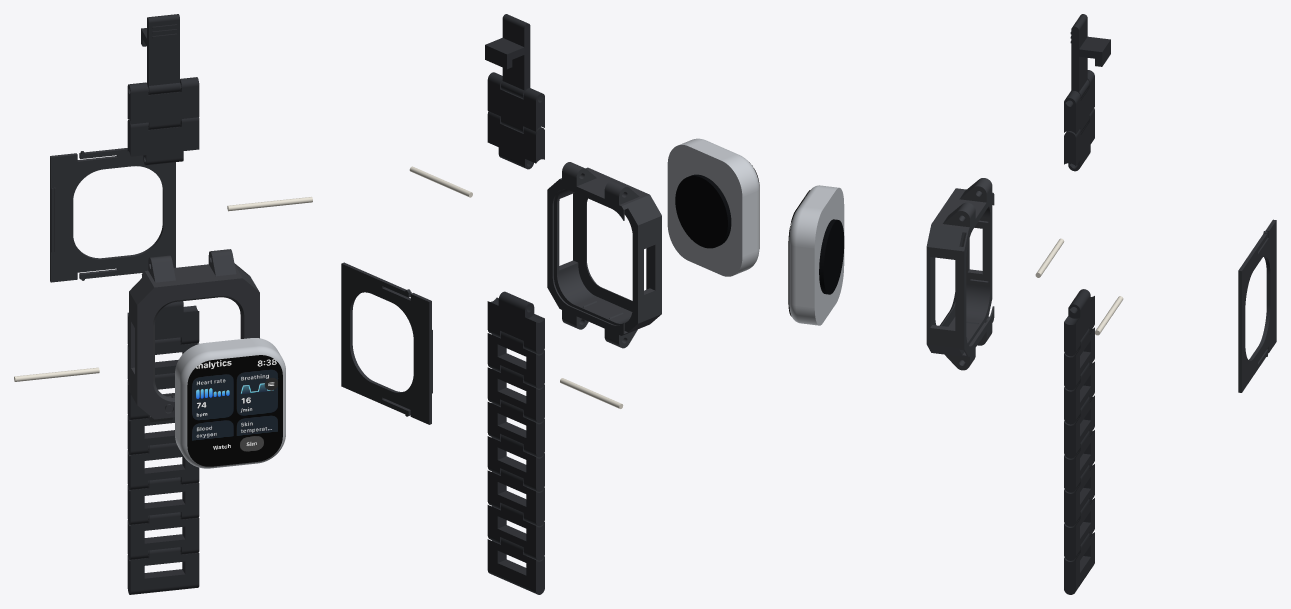
File: ouranos-watch.glb
3 views of the same model, side by side, from view 1: azimuth 30°, elevation 25°; view 2: azimuth 150°, elevation 25°; view 3: azimuth 270°, elevation 25° (orthographic). The views are drawn at different scales.
Parts seen in each view (by area): view 1: screen, shell, backplate, watch, band_a_1, hook, band_b_7, band_a_0, band_b_6, band_b_5, band_b_4, band_b_0 (+5 smaller); view 2: shell, watch, backplate, sensor, hook, band_b_0, band_a_1, band_b_7, band_a_0, band_b_2, band_b_4, band_b_6 (+3 smaller); view 3: shell, watch, backplate, hook, sensor, band_b_0, band_a_1, band_b_7, band_a_0, band_b_6, band_b_5, band_b_4 (+3 smaller).
Boxes of the visible parts, x1,y1,x2,y2 form: screen: (187,355,282,466); shell: (129,249,259,422); backplate: (50,148,175,282); watch: (175,338,285,468); band_a_1: (127,77,199,129); hook: (141,14,180,94); band_b_7: (127,547,199,594); band_a_0: (127,117,199,165); band_b_6: (127,512,199,559); band_b_5: (127,477,199,524); band_b_4: (127,442,199,489); band_b_0: (127,301,199,348); shell: (547,162,661,348); watch: (667,138,759,276); backplate: (341,262,432,424); sensor: (675,174,731,248); hook: (485,14,530,98); band_b_0: (487,291,544,354); band_a_1: (487,72,544,132); band_b_7: (487,538,544,594); band_a_0: (487,111,544,169); band_b_2: (487,366,544,422); band_b_4: (487,435,544,491); band_b_6: (487,503,544,560); shell: (926,178,994,370); watch: (789,185,844,325); backplate: (1238,219,1276,392); hook: (1070,14,1110,98); sensor: (819,219,844,294); band_b_0: (1064,289,1094,356); band_a_1: (1064,70,1094,134); band_b_7: (1064,532,1094,594); band_a_0: (1064,108,1094,171); band_b_6: (1064,498,1094,560); band_b_5: (1064,464,1094,526); band_b_4: (1064,430,1094,492).
Size of the model in its own units: 0.0922 by 0.1973 by 0.1557.
7 materials, 1 textured.
